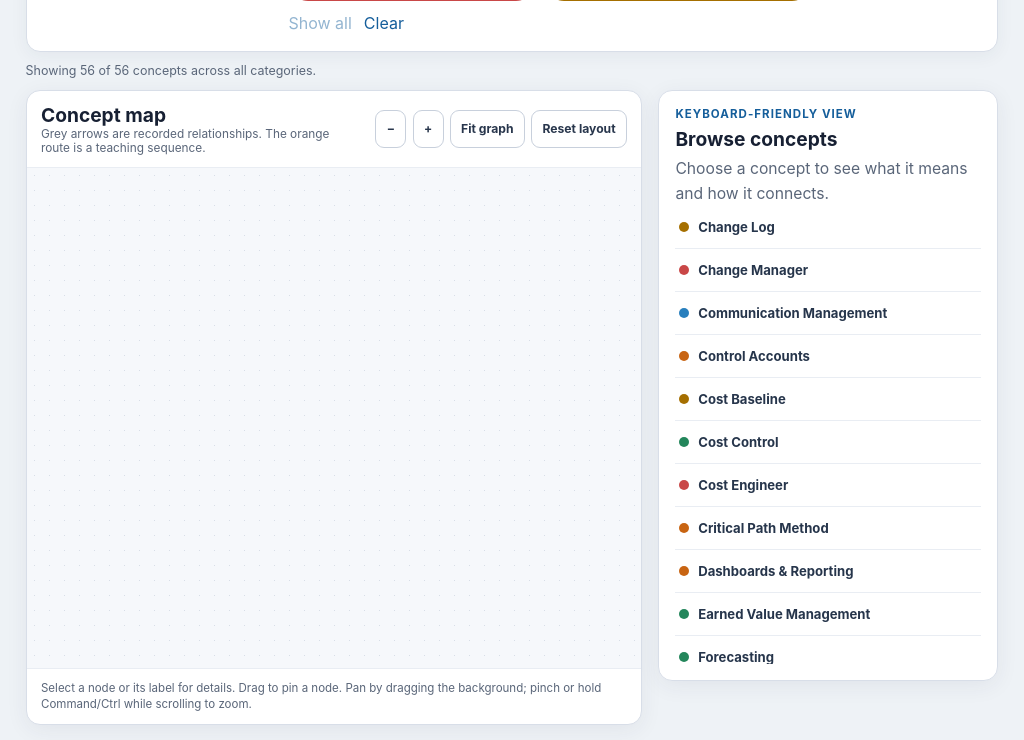
Scenario: Project Controls Knowledge Graph › opens concept details with typed relationships and clears a hidden selection
The width and height of the screenshot is (1024, 740).
(page scrolled)
Click the button "Cost Control" at {"x": 738, "y": 442}, box [675,421,981,463]
(page scrolled)
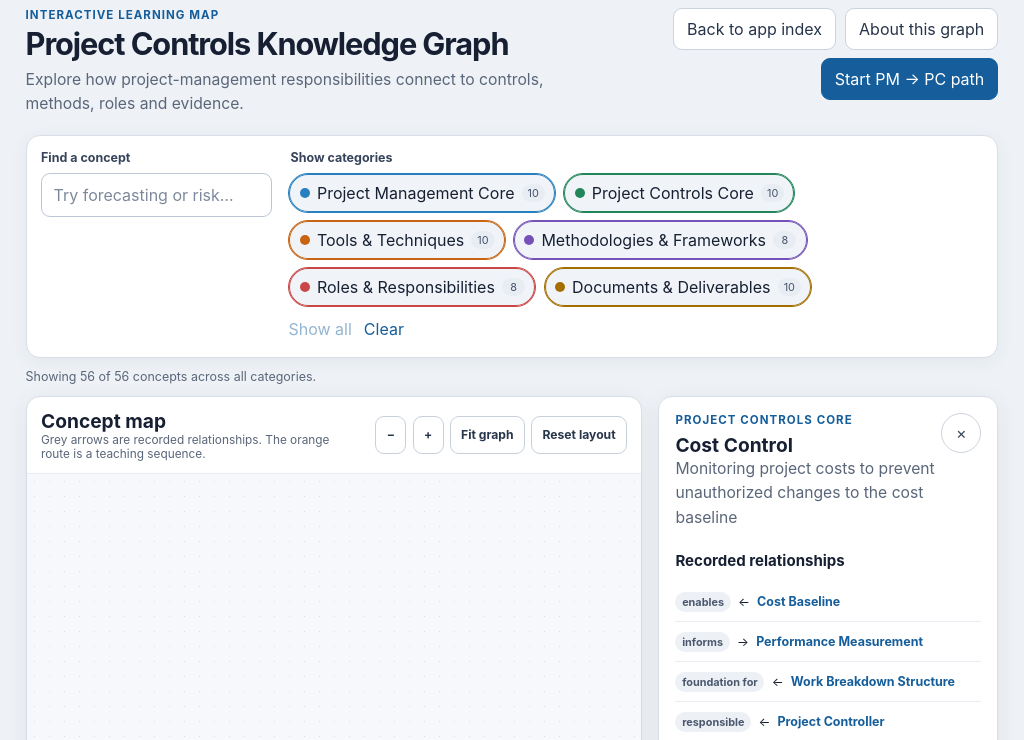
Check: the heading "Cost Control" is shown, box [675,433,793,457]
Check: the text "informs" is shown, box [675,632,730,652]
Check: the button "Performance Measurement" is shown, box [756,634,981,649]
Click the button "Project Controls Core 10" at {"x": 679, "y": 193}, box [563,173,796,213]
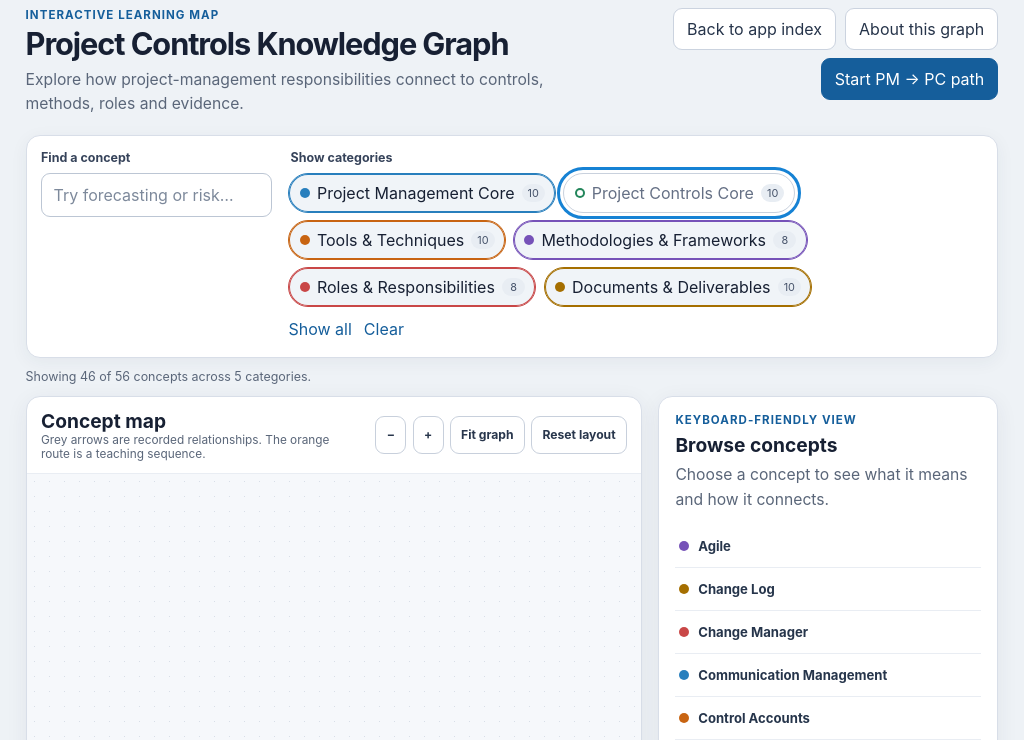
Check: the heading "Cost Control" is gone
Check: the heading "Browse concepts" is shown, box [675,433,837,457]
